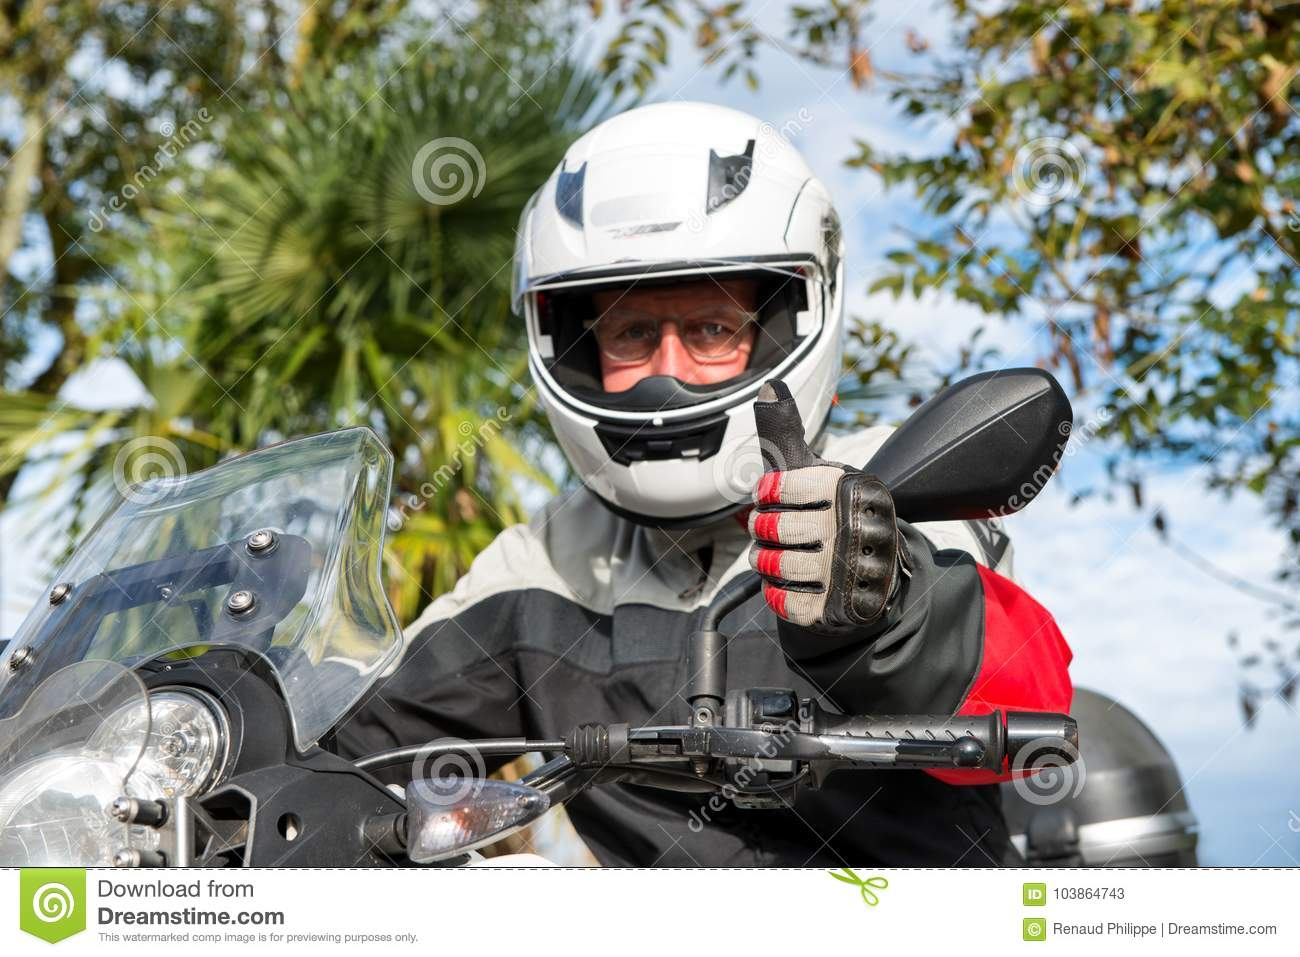helmet: (496, 112, 865, 483)
